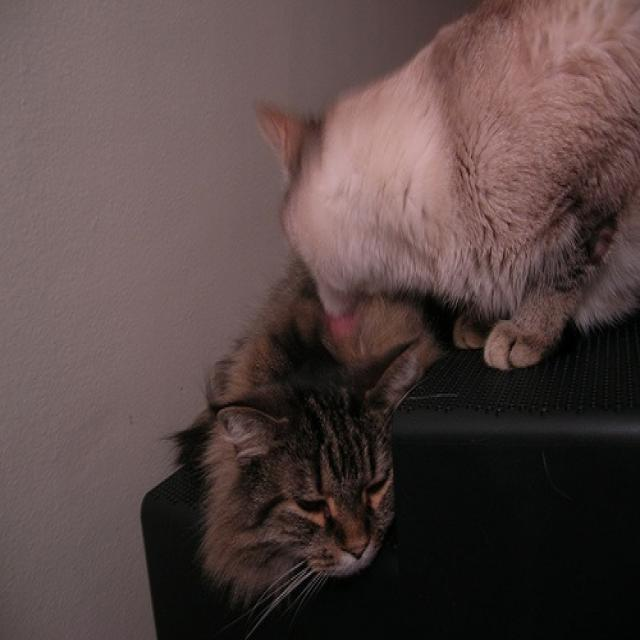cat: (251, 2, 639, 370), (163, 260, 426, 637)
